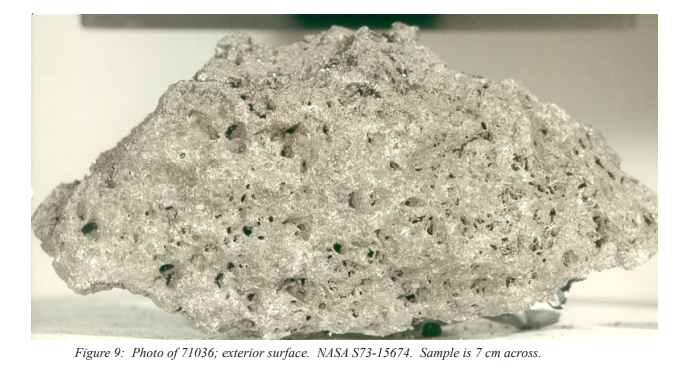Basalt: (78, 59, 660, 358), (297, 119, 452, 200)
